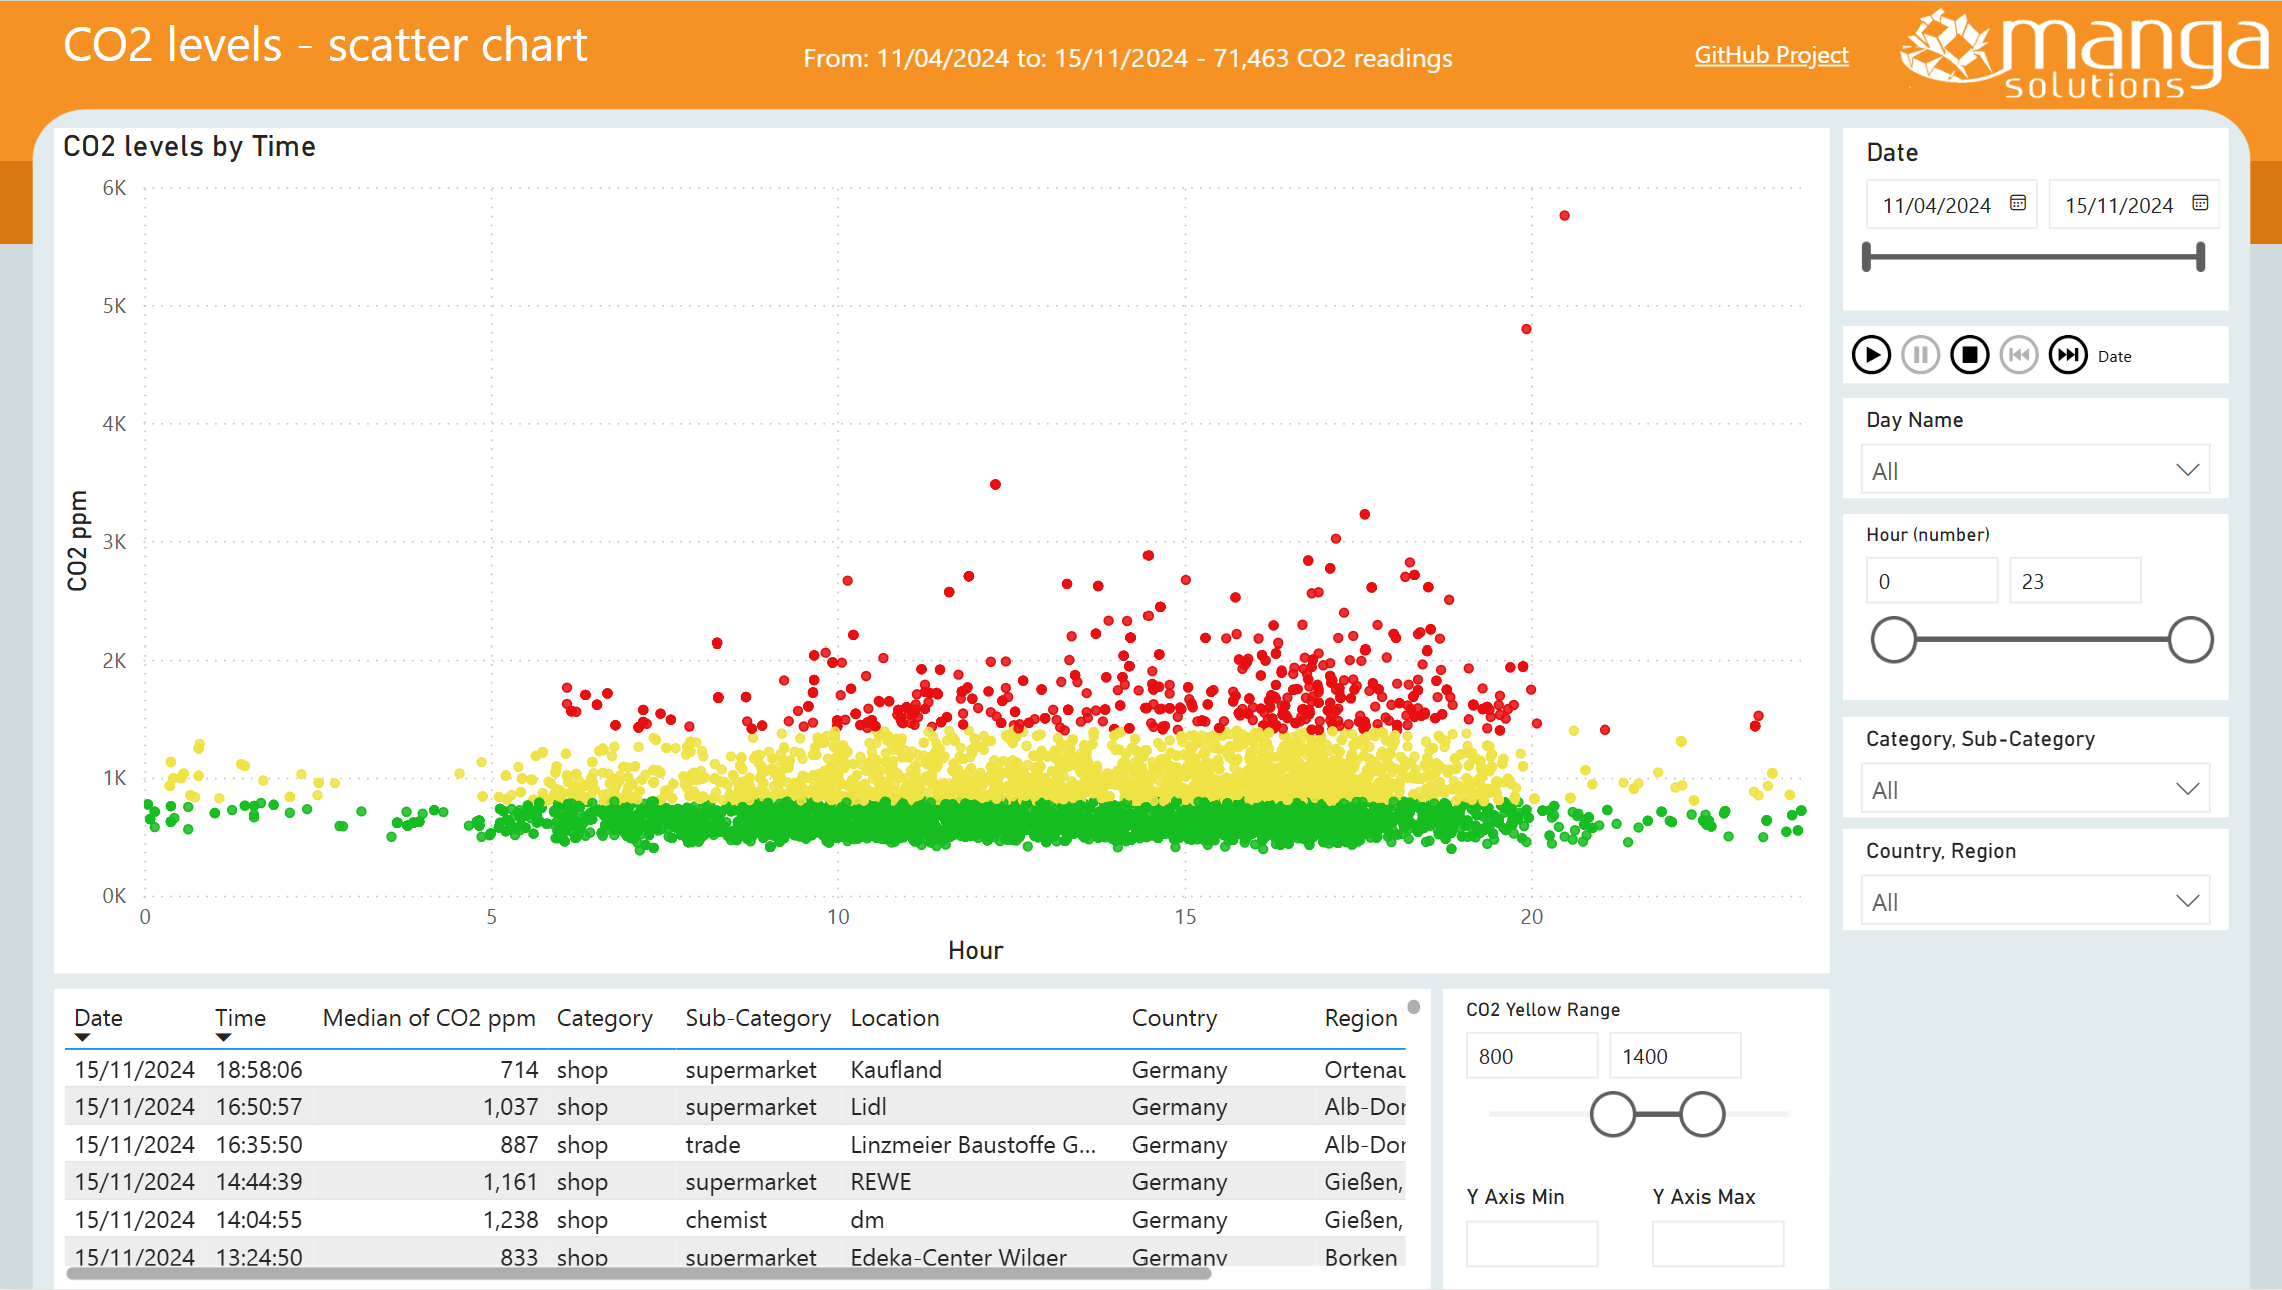

The page's visual inventory and layout, read from the dashboard file:
{"tool":"powerbi","page":{"name":"Scatter Chart","canvas":[1280,720],"ordinal":2},"visuals":[{"type":"scatterChart","title":"CO2 levels by Time","fields":{"Y":["Aranet Data.# Median of CO2 ppm"],"X":["Sum(Aranet Data.Time (decimal))"],"Category":["Aranet Data.Index"]},"box":[32,72,992,472],"z":0},{"type":"slicer","fields":{"Values":["Y Axis Max.Y Axis Max"]},"box":[912,656,112,64],"z":2000},{"type":"slicer","title":"Y Axis Min","fields":{"Values":["^ Y Axis Min.^ Y Axis Min"]},"box":[808,656,104,64],"z":3000},{"type":"slicer","fields":{"Values":["^ Orange Range.Orange Range"]},"box":[808,552,216,104],"z":4000},{"type":"actionButton","box":[1056,0,224,64],"z":5000},{"type":"textbox","box":[32,0,720,48],"z":6000},{"type":"htmlContent443BE3AD55E043BF878BED274D3A6865","fields":{"content":["Aranet Data.@ Date Range"]},"box":[408,16,464,32],"z":7000},{"type":"tableEx","fields":{"Values":["CO2_readings.date","CO2_readings.Time","CO2 levels.# Median of CO2 ppm","CO2 levels.Category","CO2 levels.Sub-Category","CO2 levels.Location","CO2 levels.Country","CO2 levels.Region"]},"box":[31.9,551.7,768.8,168.3],"z":8000},{"type":"slicer","fields":{"Values":["CO2_readings.Day Name"]},"box":[1032.1,222.6,215.5,55.9],"z":9000},{"type":"slicer","fields":{"Values":["CO2_readings.date"]},"box":[1032.1,71.8,215.5,102],"z":10000},{"type":"slicer","fields":{"Values":["CO2_readings.Hour (number)1"]},"box":[1032.1,287.3,215.5,103.7],"z":11000},{"type":"PBI_CV_16948668_E17D_454B_8664_2F2C470EA8C1","fields":{"category":["CO2_readings.Date (Short)"]},"box":[1032.1,182.7,215.5,31.9],"z":12000},{"type":"slicer","fields":{"Values":["CO2 levels.Category","CO2 levels.Sub-Category"]},"box":[1032.1,399.9,215.5,55.9],"z":13000},{"type":"slicer","fields":{"Values":["CO2 levels.Country","CO2 levels.Region"]},"box":[1032.1,462.9,215.5,56.7],"z":14000},{"type":"textbox","box":[920,16,120,32],"z":15000}]}

Visuals, with their boxes in screenshot pixels (x1, y1, x2, y2), scaled from the page's 1280x720 canvas onto the 2282x1290 screenshot:
"CO2 levels by Time" scatterChart: 57/129/1826/975
slicer - Y Axis Max.Y Axis Max: 1626/1175/1826/1289
"Y Axis Min" slicer: 1441/1175/1626/1289
slicer - ^ Orange Range.Orange Range: 1441/989/1826/1175
actionButton: 1883/0/2281/115
textbox: 57/0/1341/86
htmlContent443BE3AD55E043BF878BED274D3A6865 - Aranet Data.@ Date Range: 727/29/1555/86
tableEx - CO2_readings.date x CO2_readings.Time: 57/988/1427/1289
slicer - CO2_readings.Day Name: 1840/399/2224/499
slicer - CO2_readings.date: 1840/129/2224/311
slicer - CO2_readings.Hour (number)1: 1840/515/2224/701
PBI_CV_16948668_E17D_454B_8664_2F2C470EA8C1 - CO2_readings.Date (Short): 1840/327/2224/384
slicer - CO2 levels.Category x CO2 levels.Sub-Category: 1840/716/2224/817
slicer - CO2 levels.Country x CO2 levels.Region: 1840/829/2224/931
textbox: 1640/29/1854/86
